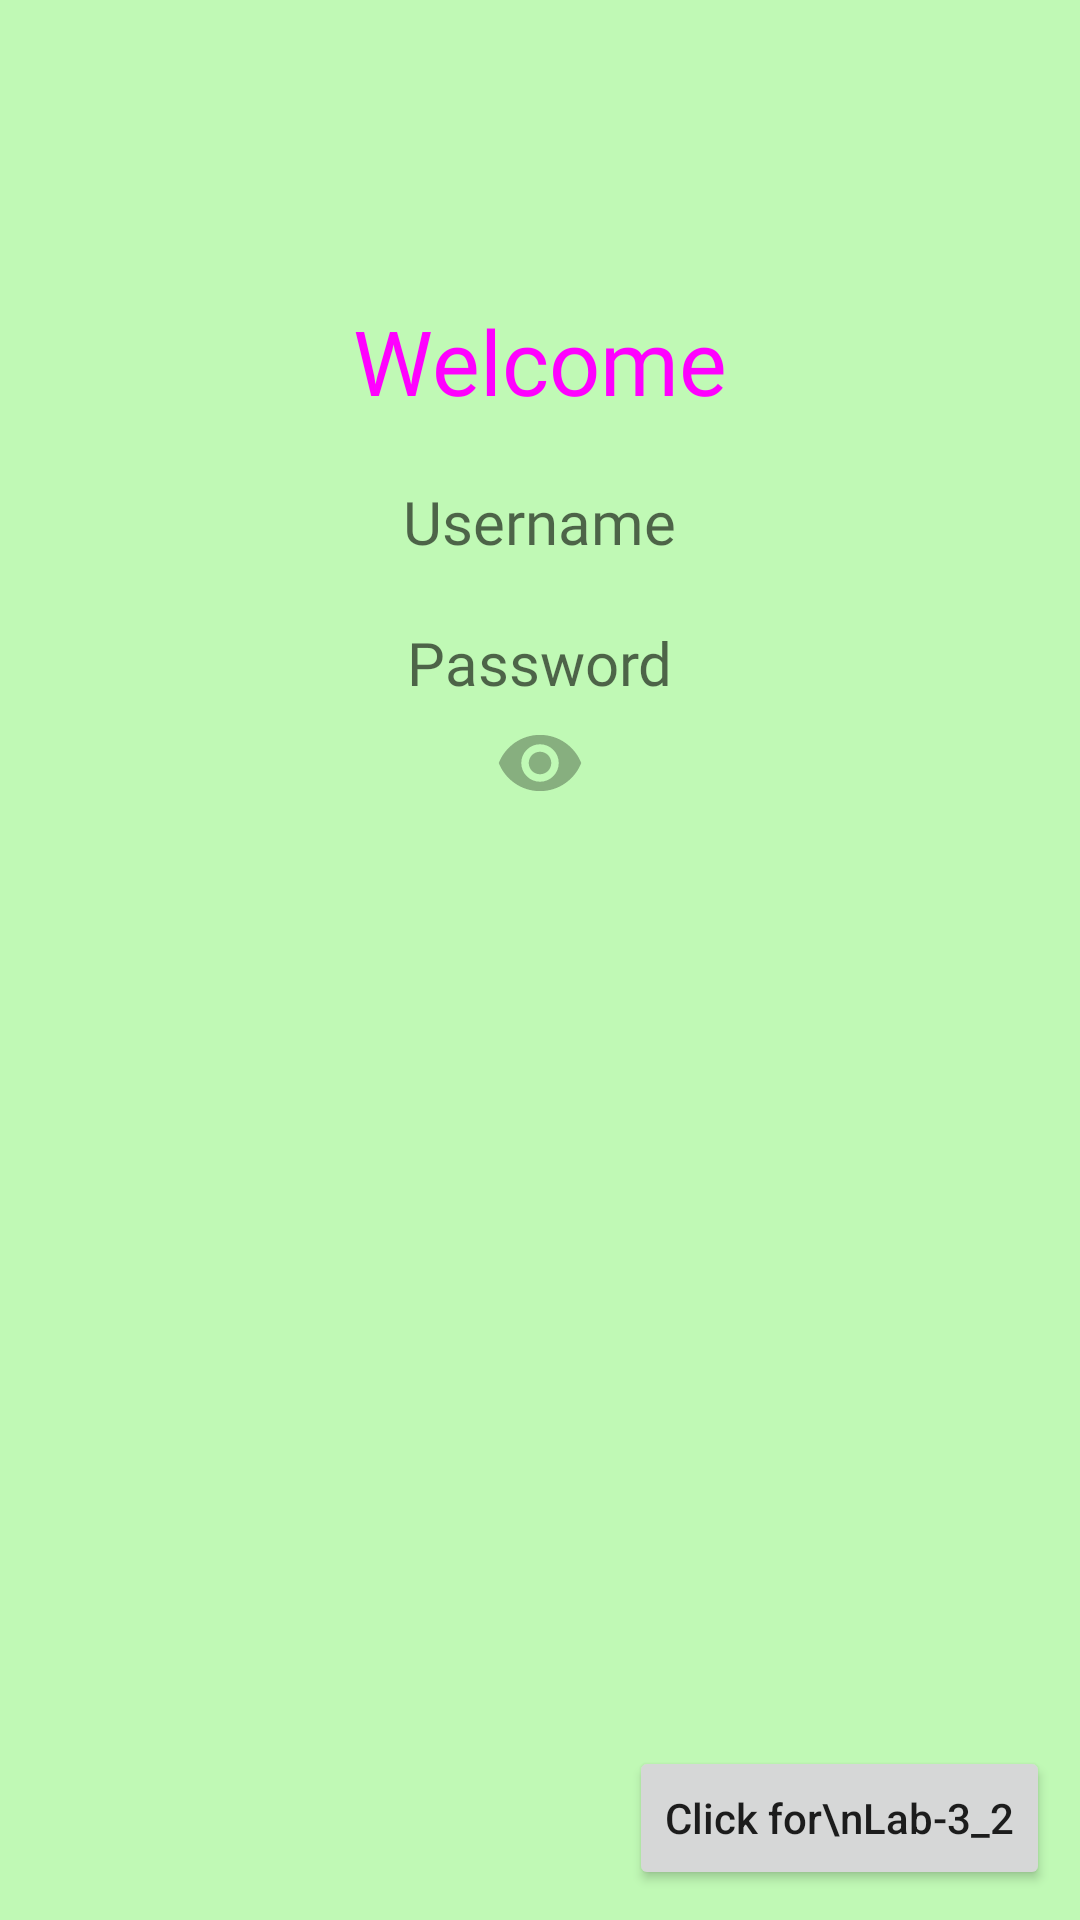

Point at icon controls on the screen. Image size 1080 × 1920, points as point (x, y).
eye: point (540, 763)
